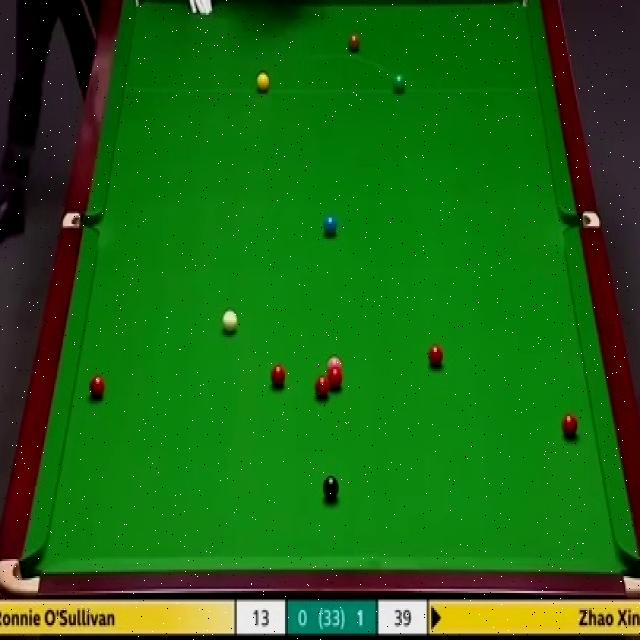black-ball: (323, 474, 341, 500)
blue-ball: (323, 215, 340, 237)
brown-ball: (348, 31, 360, 52)
green-ball: (391, 71, 406, 94)
pink-ball: (323, 354, 339, 374)
red-ball: (561, 412, 579, 439), (270, 364, 287, 391), (88, 374, 105, 401), (429, 342, 444, 370), (315, 377, 331, 400), (326, 371, 342, 389)
white-ball: (222, 308, 238, 335)
yellow-ball: (256, 73, 270, 94)
